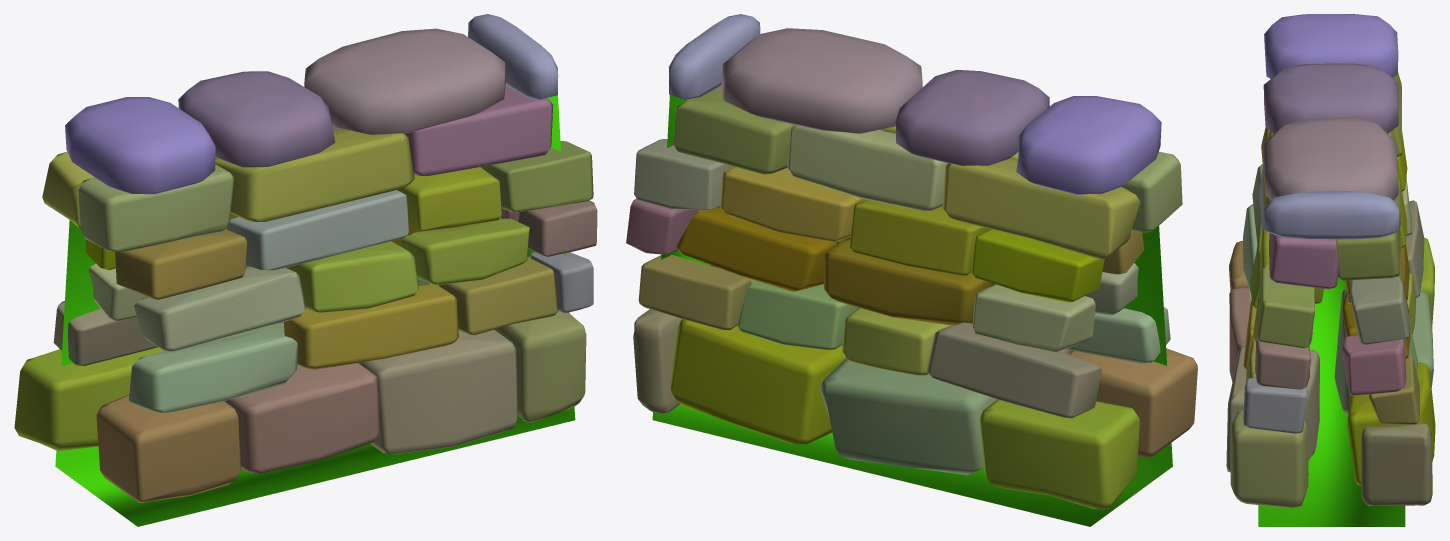
File: SM_Prop_wall_stone_12.glb
3 views of the same model, side by side, from view 1: azimuth 30°, elevation 25°; view 2: azimuth 150°, elevation 25°; view 3: azimuth 270°, elevation 25° (orthographic). The views are drawn at different scales.
Parts seen in each view (by area): view 1: SM_Prop_wall_stone_12; view 2: SM_Prop_wall_stone_12; view 3: SM_Prop_wall_stone_12.
Part boxes in pixels (box(x1,y1,x2,y2)): SM_Prop_wall_stone_12: box(14, 14, 597, 526); SM_Prop_wall_stone_12: box(626, 14, 1197, 526); SM_Prop_wall_stone_12: box(1226, 14, 1435, 526).
Bounding box in the file's own units: 2.23 × 1.59 × 0.9094.
